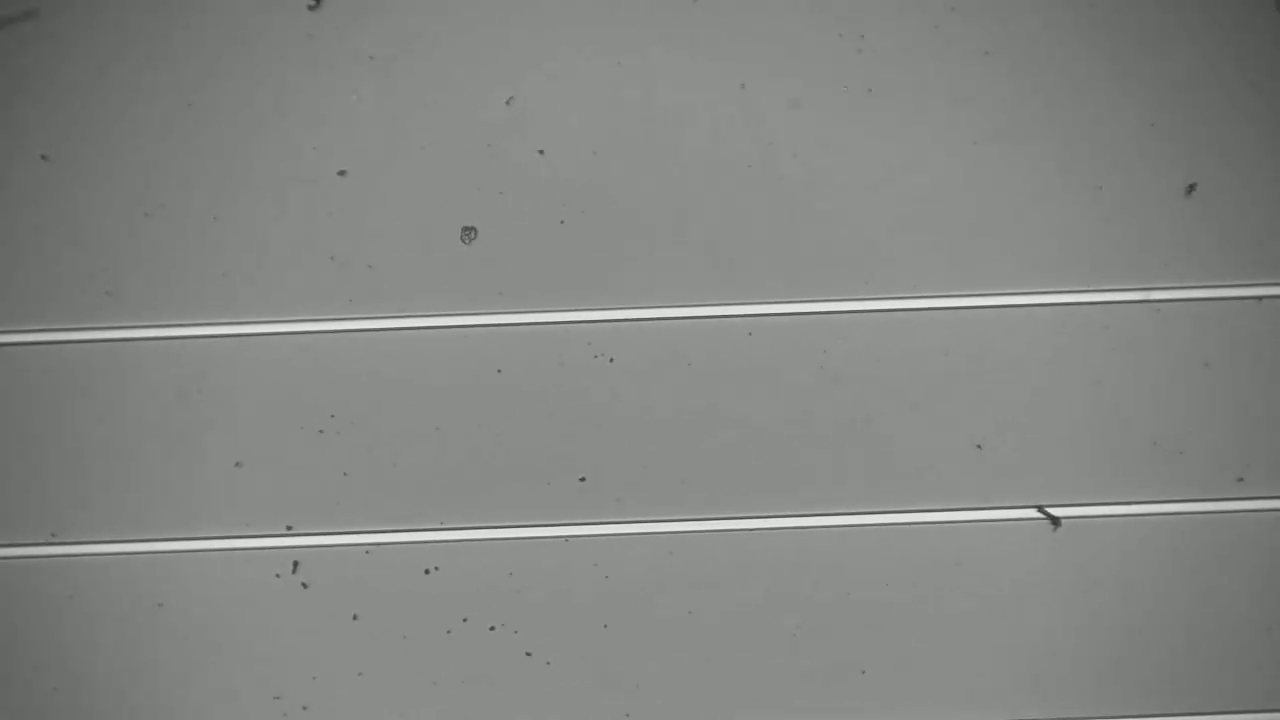stains_enbedded: (1027, 496, 1080, 543)
